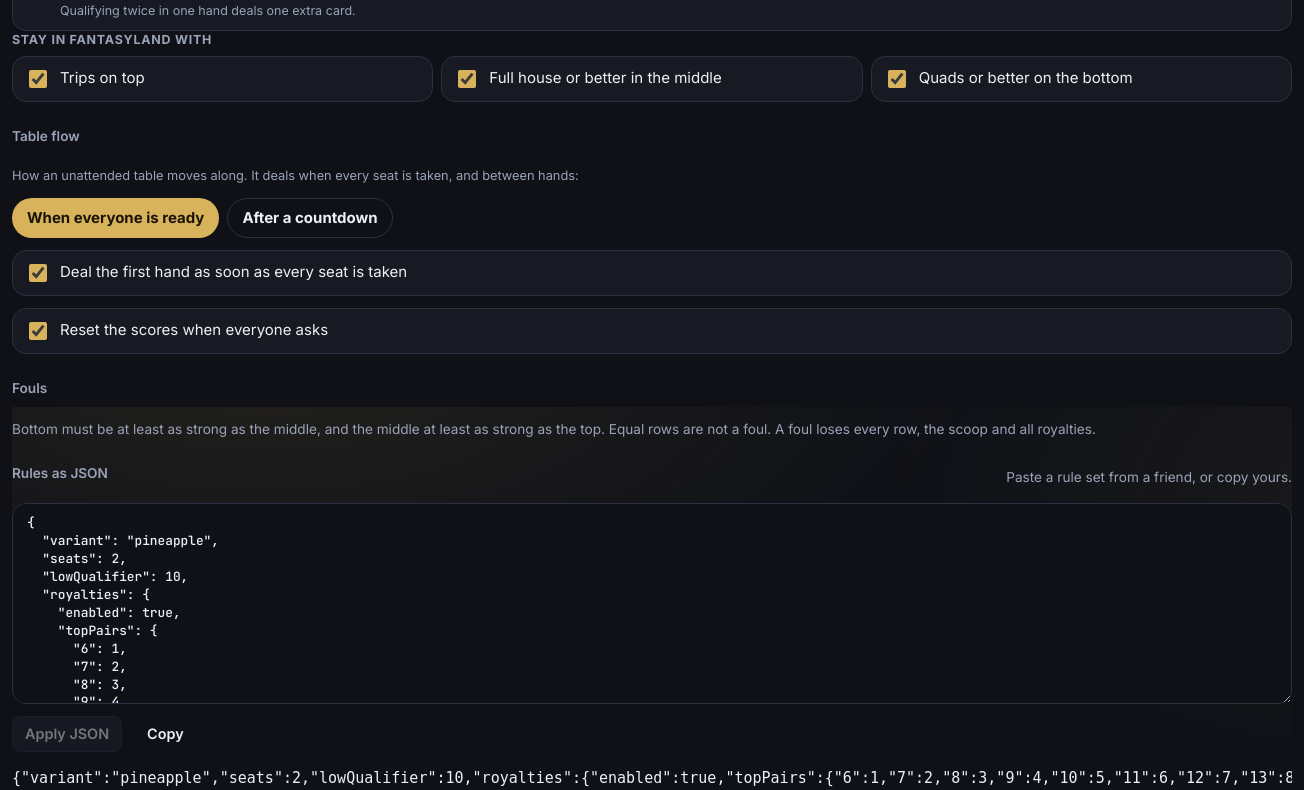
RulesEditor › JSON panel applies valid rules and reports invalid ones
(page scrolled)
Clear the text box with test id "rules-json": [652, 604] box x1=12 y1=503 x2=1292 y2=704
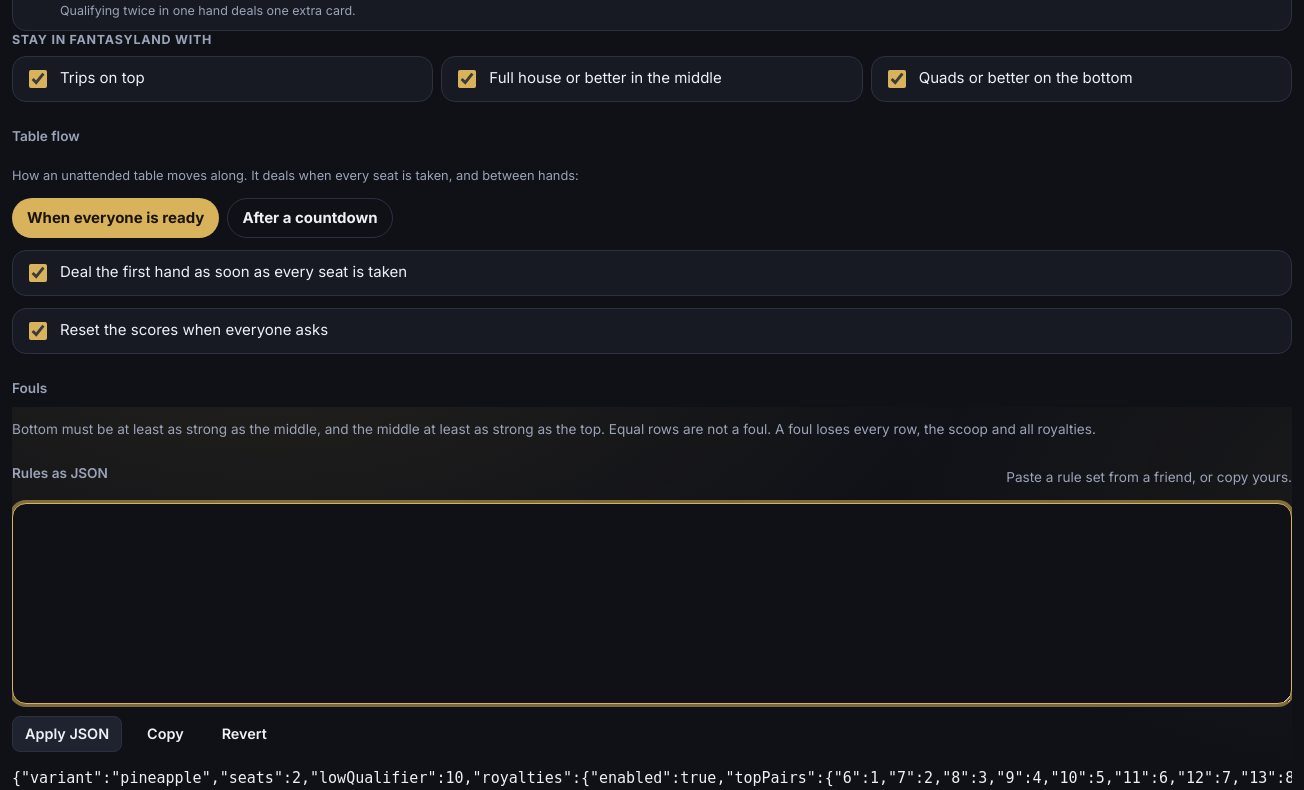
Type keys "{\"variant\":\"ofc\",\"seats\":3,\"scoring\":{\"mode\":\"up\",\"multiplier\":2}}"
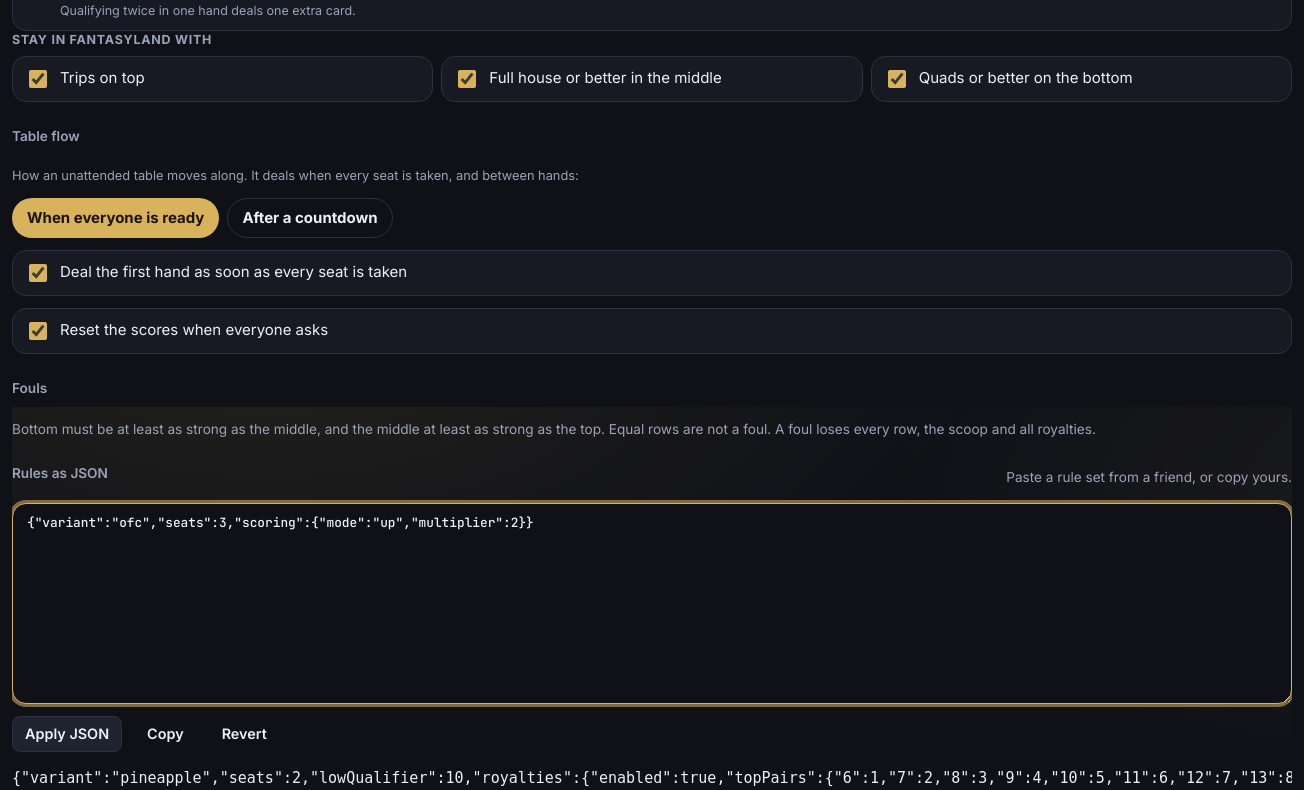
Click the button with test id "rules-json-apply": [67, 734] box x1=12 y1=716 x2=122 y2=752
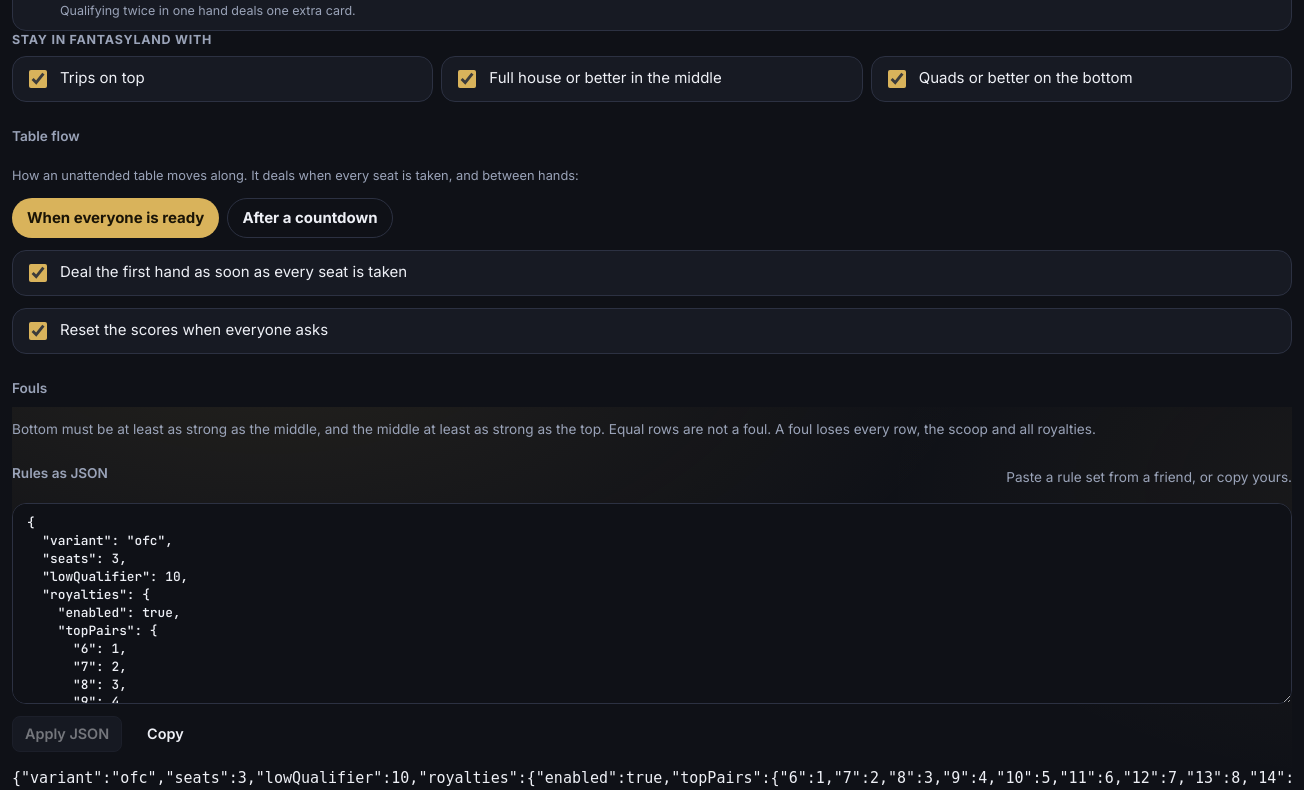
Clear the text box with test id "rules-json": [652, 604] box x1=12 y1=503 x2=1292 y2=704
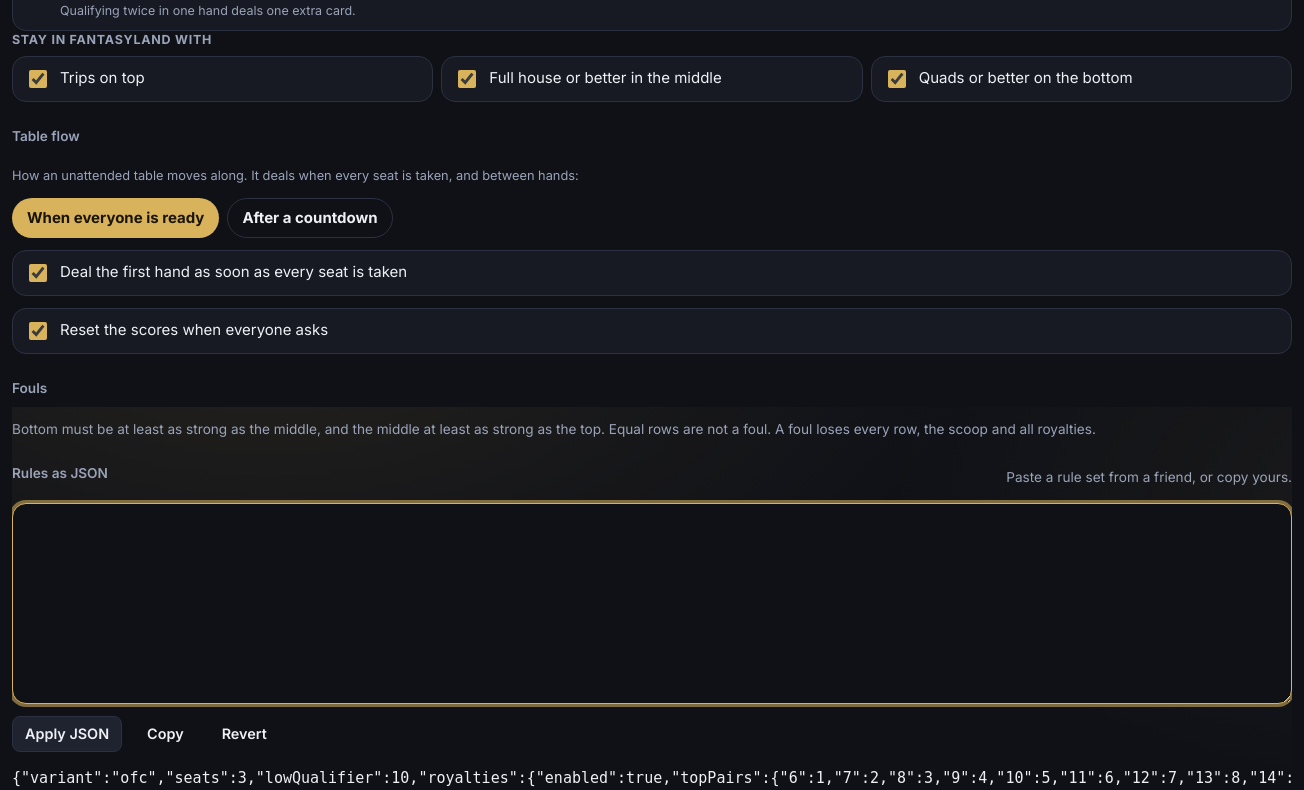
Type keys "{\"variant\":\"bogus\"}"
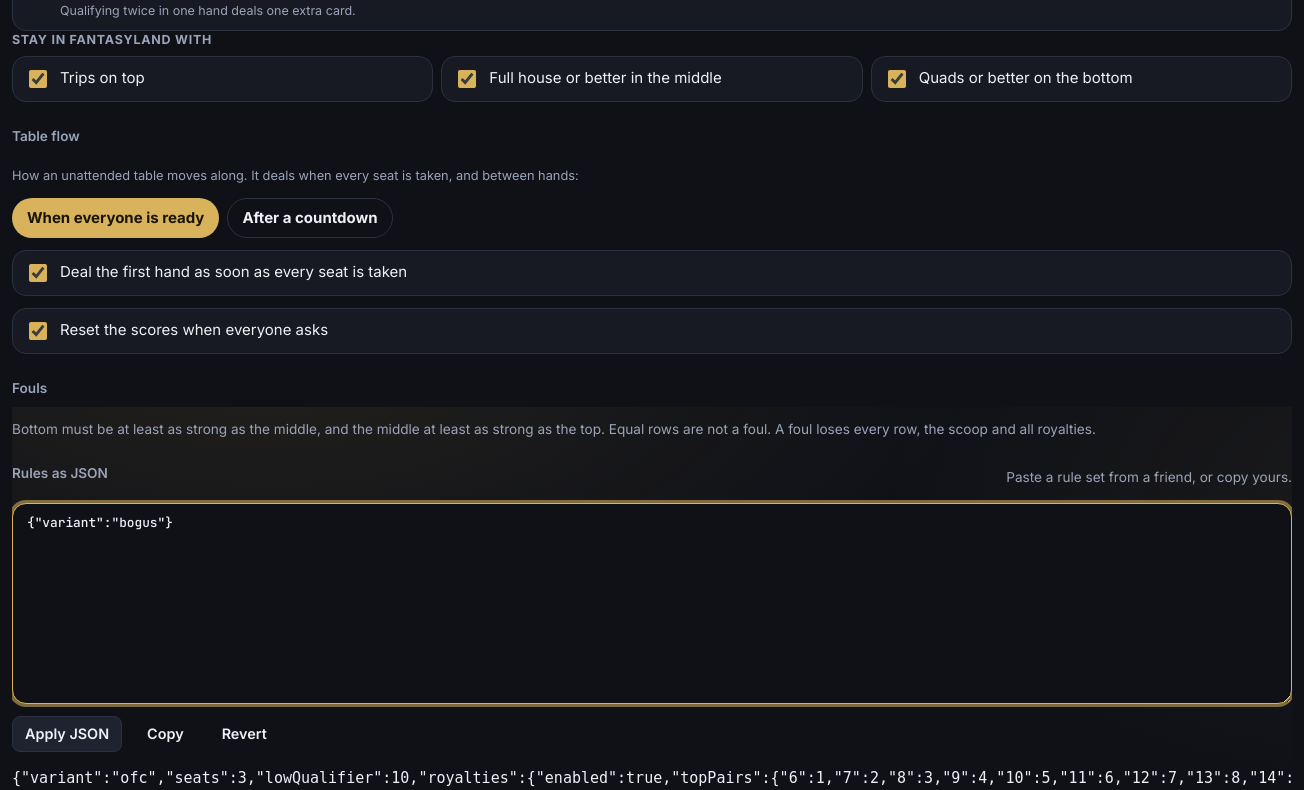
Click the button with test id "rules-json-apply": [67, 734] box x1=12 y1=716 x2=122 y2=752
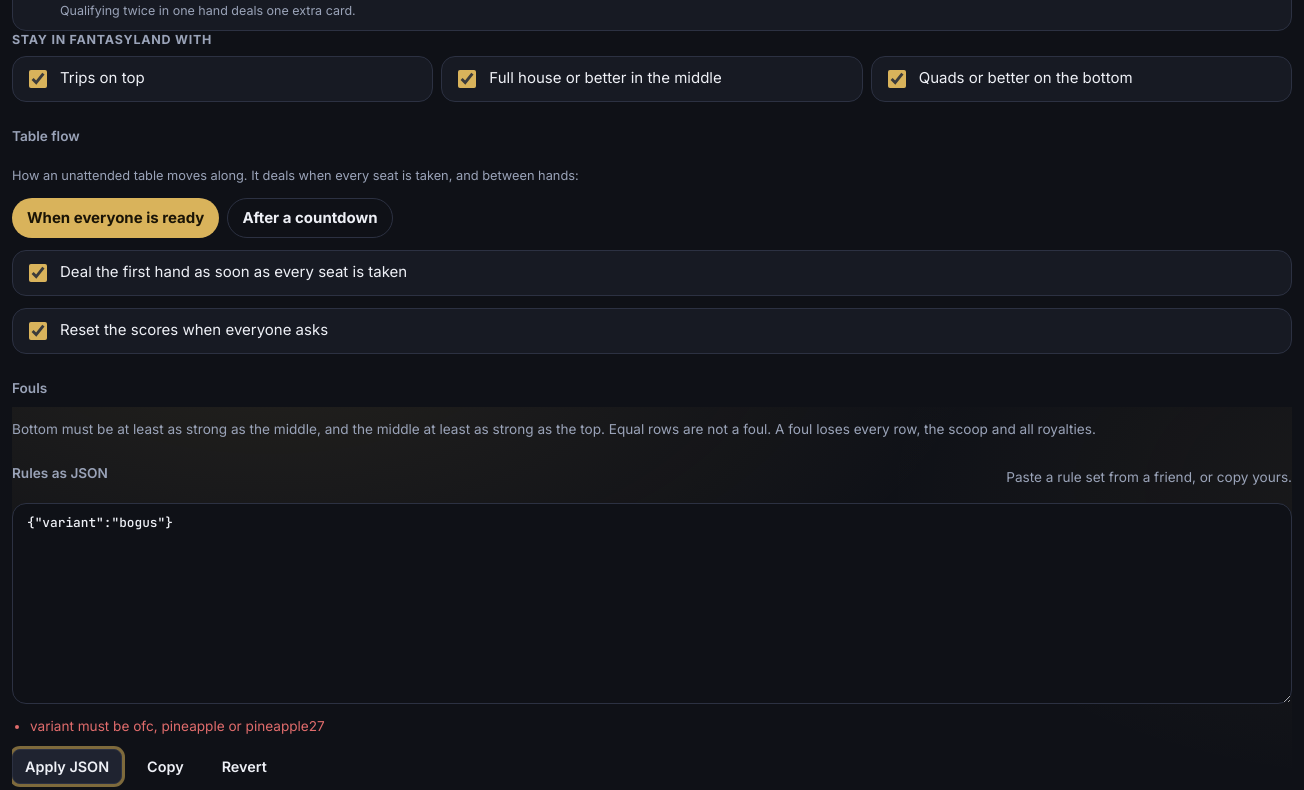
Result: the list with test id "rules-json-error" shows "variant" at x1=30 y1=718 x2=325 y2=734
